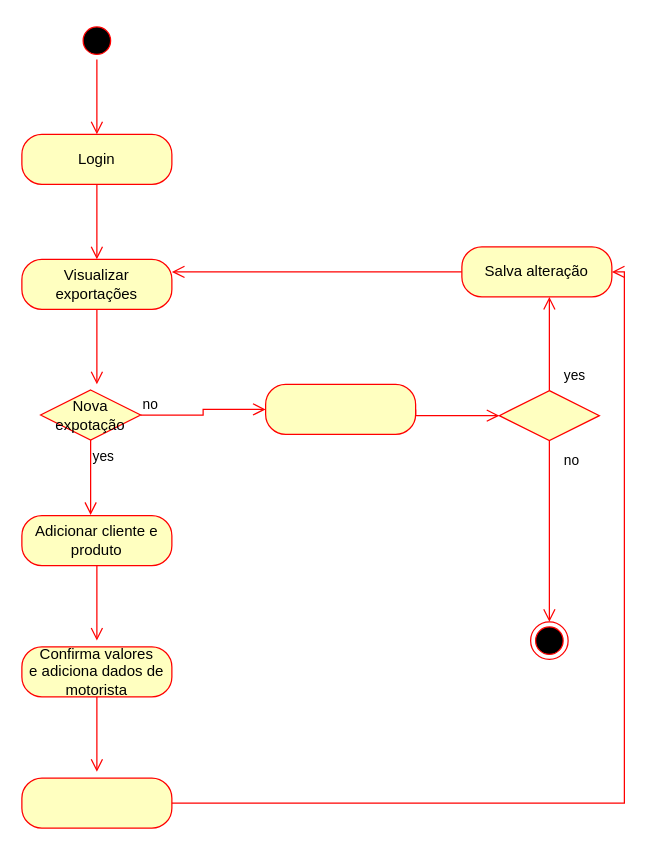
Some shapes in this 659 by 850 pixel diagram are drawn without their labels. The shapes that lost their labels are listed below. From the top down, each one's centre as x and y in pixels, then its label:
pixel 340 408: Activity
pixel 548 415: Editar exportação
pixel 96 802: Salva dados e atualiza a
